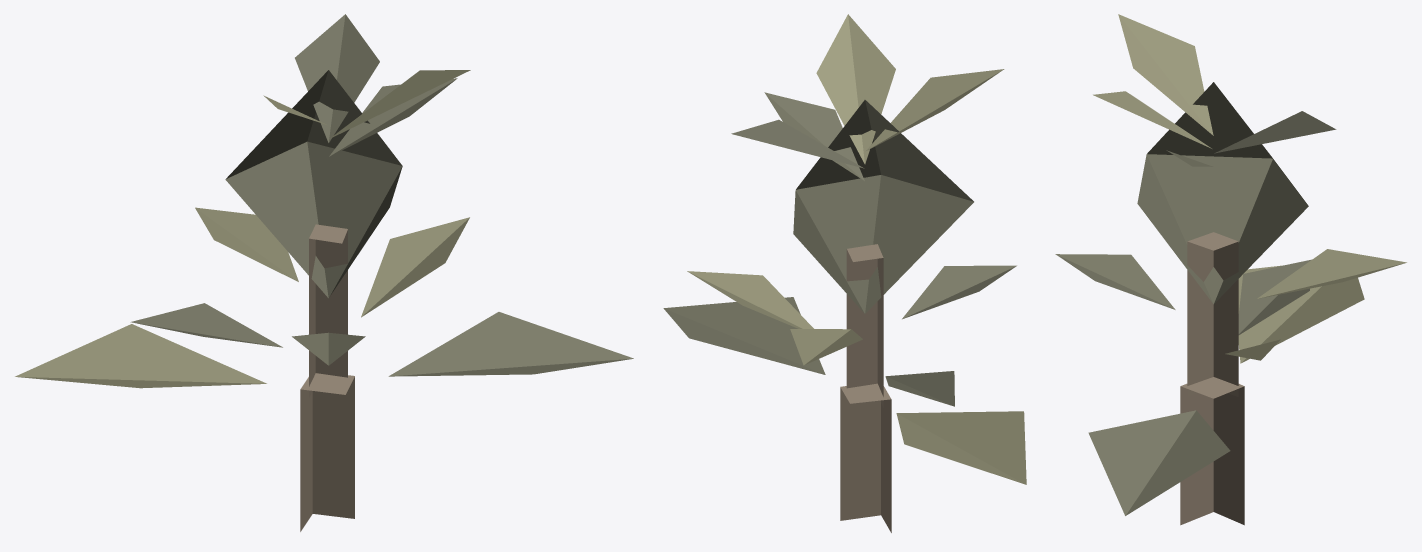
Rendered from shu.chuilui@seedling__winter.glb.
3 views of the same model, side by side, from view 1: azimuth 30°, elevation 25°; view 2: azimuth 150°, elevation 25°; view 3: azimuth 270°, elevation 25° (orthographic). The views are drawn at different scales.
Parts seen in each view (by area): view 1: shu.chuilui@seedling__winter; view 2: shu.chuilui@seedling__winter; view 3: shu.chuilui@seedling__winter.
Boxes of the visible parts, <box> form: shu.chuilui@seedling__winter: <box>15,14,633,531</box>; shu.chuilui@seedling__winter: <box>663,14,1026,532</box>; shu.chuilui@seedling__winter: <box>1055,14,1406,525</box>.
Size of the model in its own units: 1.38 by 1.26 by 0.8606.
